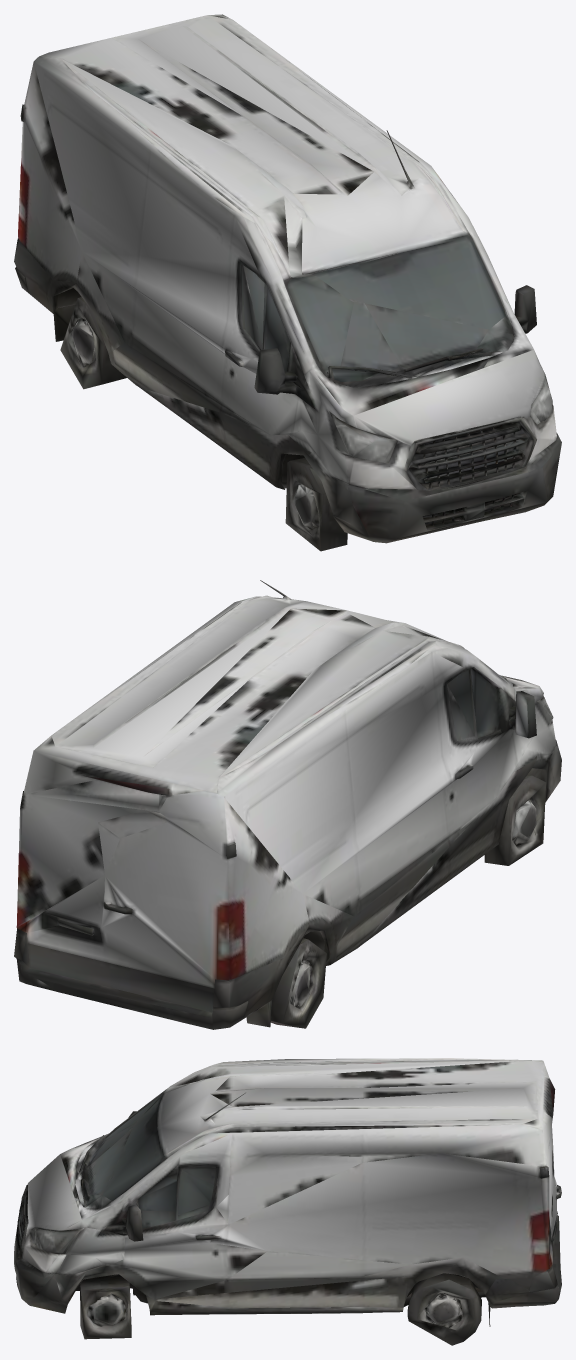
Rendered from car_van.glb.
The picture shows the model from 3 angles, top to bottom: view 1: azimuth 30°, elevation 25°; view 2: azimuth 150°, elevation 25°; view 3: azimuth 270°, elevation 25°; orthographic projection. The views are drawn at different scales.
Parts seen in each view (by area): view 1: fit; view 2: fit; view 3: fit.
Boxes of the visible parts, <box> form: fit: <box>14,14,561,551</box>; fit: <box>14,580,561,1029</box>; fit: <box>14,1058,561,1345</box>.
Size of the model in its own units: 2.19 by 2.33 by 4.9.
1 material, 1 textured.
